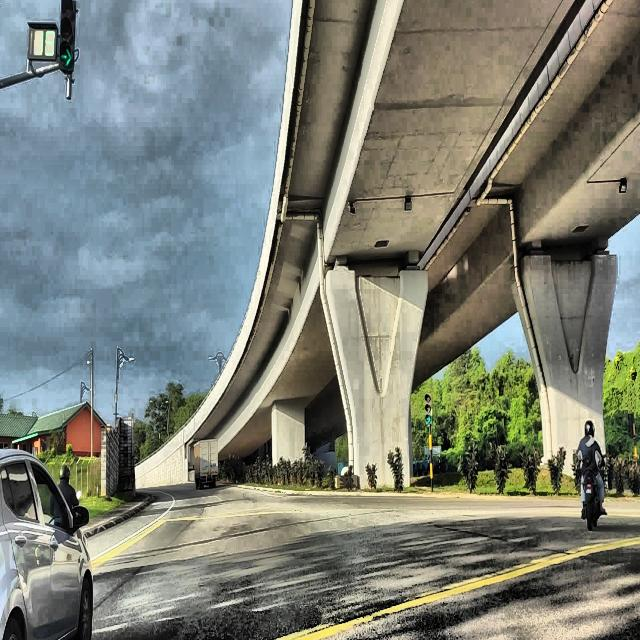green: (59, 0, 75, 72), (425, 392, 431, 426)
